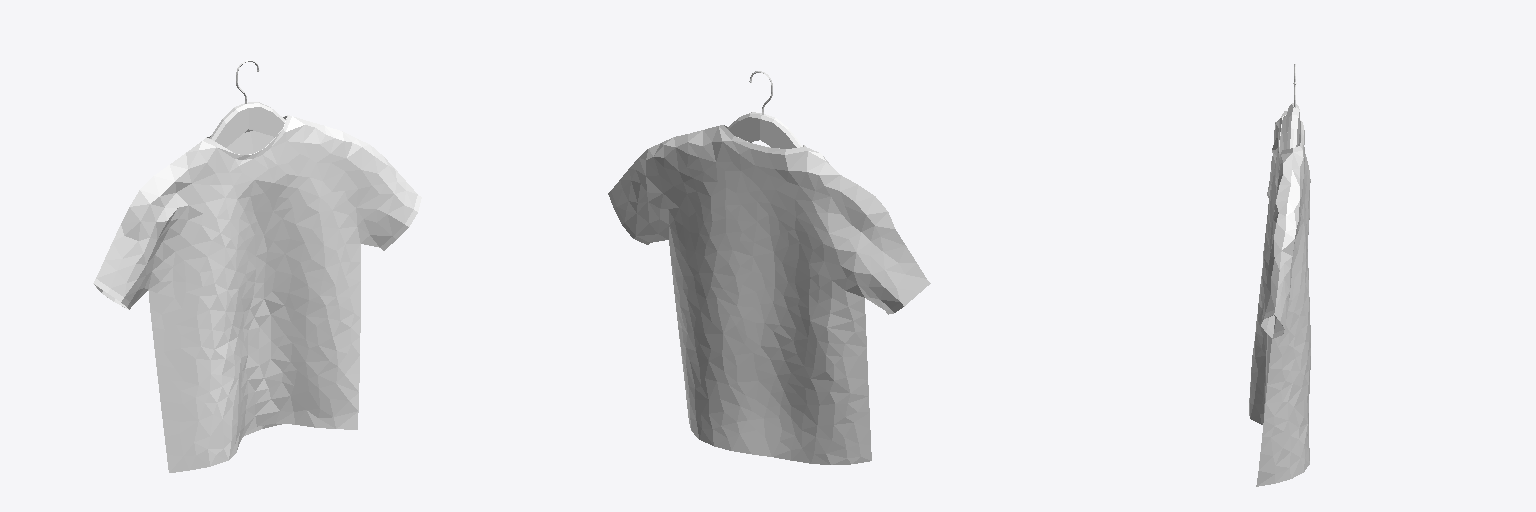
Rendered from Shirt_on_Hanger.obj.
3 renders of one model, left to right at view 1: azimuth 30°, elevation 25°; view 2: azimuth 150°, elevation 25°; view 3: azimuth 270°, elevation 25°, orthographic.
Parts seen in each view (by area): view 1: ShirtOnHanger; view 2: ShirtOnHanger; view 3: ShirtOnHanger.
Part boxes in pixels (x1,y1,x2,y2): ShirtOnHanger: (93, 60, 421, 472); ShirtOnHanger: (608, 71, 930, 464); ShirtOnHanger: (1249, 64, 1310, 486).
Size of the model in its own units: 20.22 by 22.59 by 3.38.